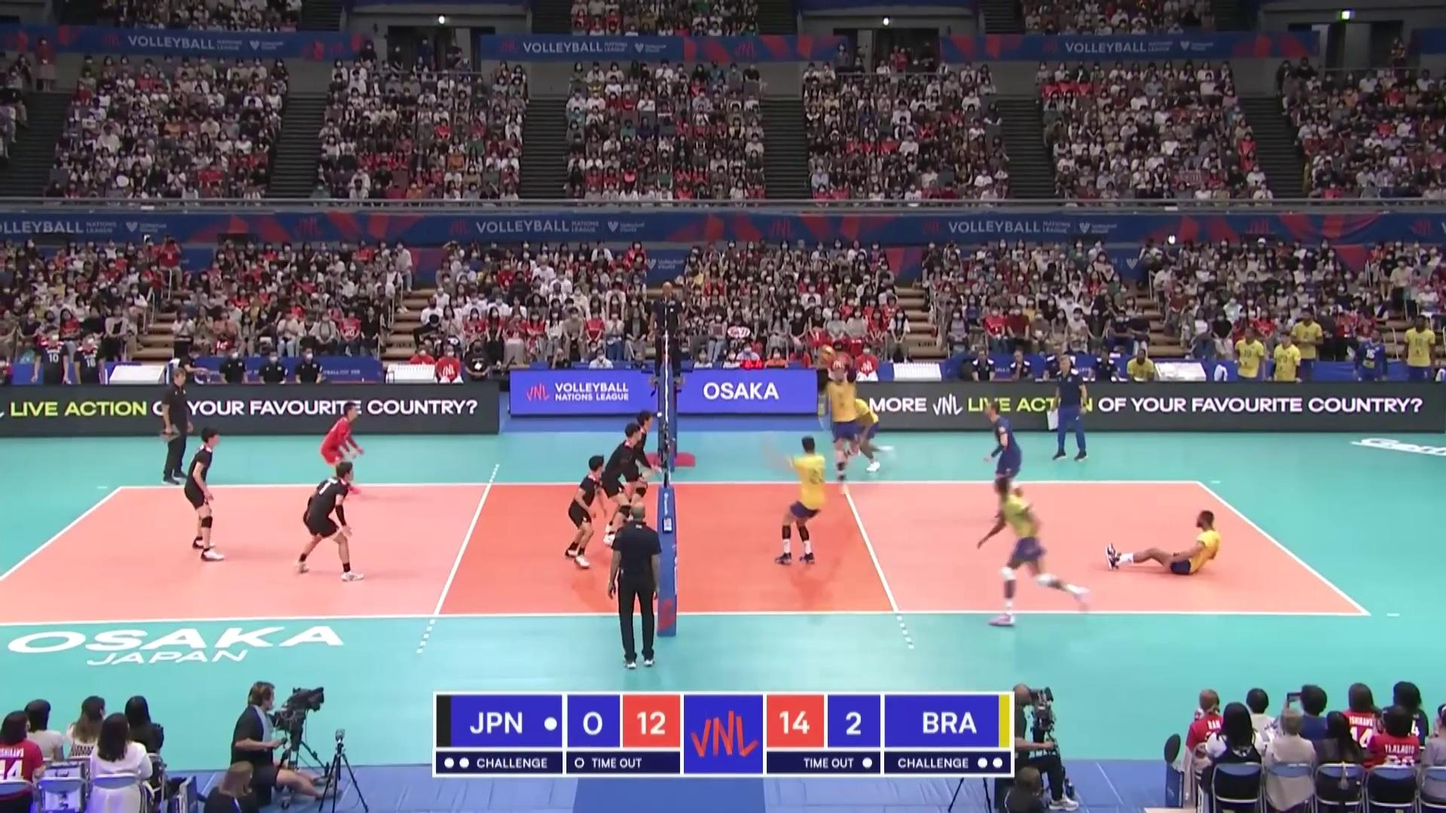player: (978, 477, 1092, 626), (1098, 502, 1221, 581), (295, 463, 362, 580), (773, 438, 828, 564), (602, 425, 646, 549), (819, 363, 862, 489), (609, 412, 657, 524), (560, 457, 607, 569), (983, 402, 1025, 523), (832, 392, 892, 474), (185, 428, 221, 560), (316, 402, 363, 494)
refree: (610, 504, 664, 669), (653, 283, 685, 379)
